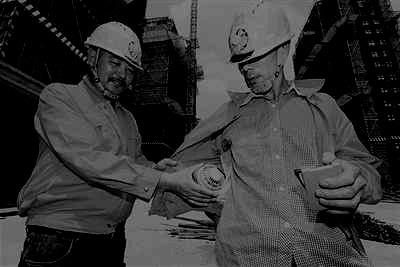helmet: (227, 3, 296, 94), (83, 21, 143, 93)
